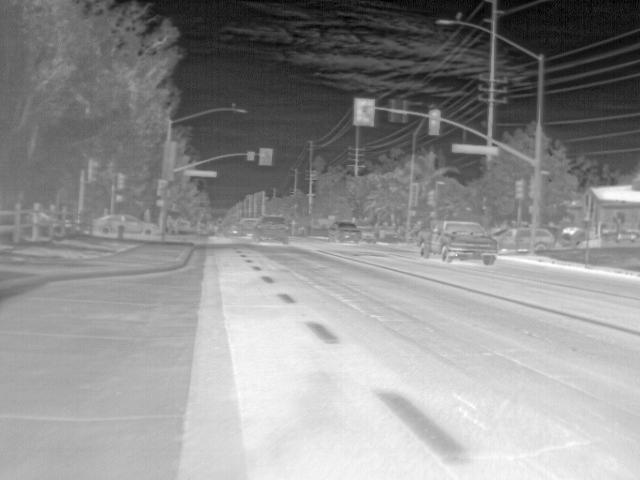car: (419, 222, 499, 266), (256, 214, 289, 244), (123, 212, 159, 235), (330, 219, 363, 244), (589, 230, 639, 246), (92, 213, 118, 235), (498, 227, 516, 252), (514, 225, 531, 250), (237, 218, 257, 237), (360, 226, 378, 242), (226, 224, 238, 235)
person: (165, 214, 177, 233)
